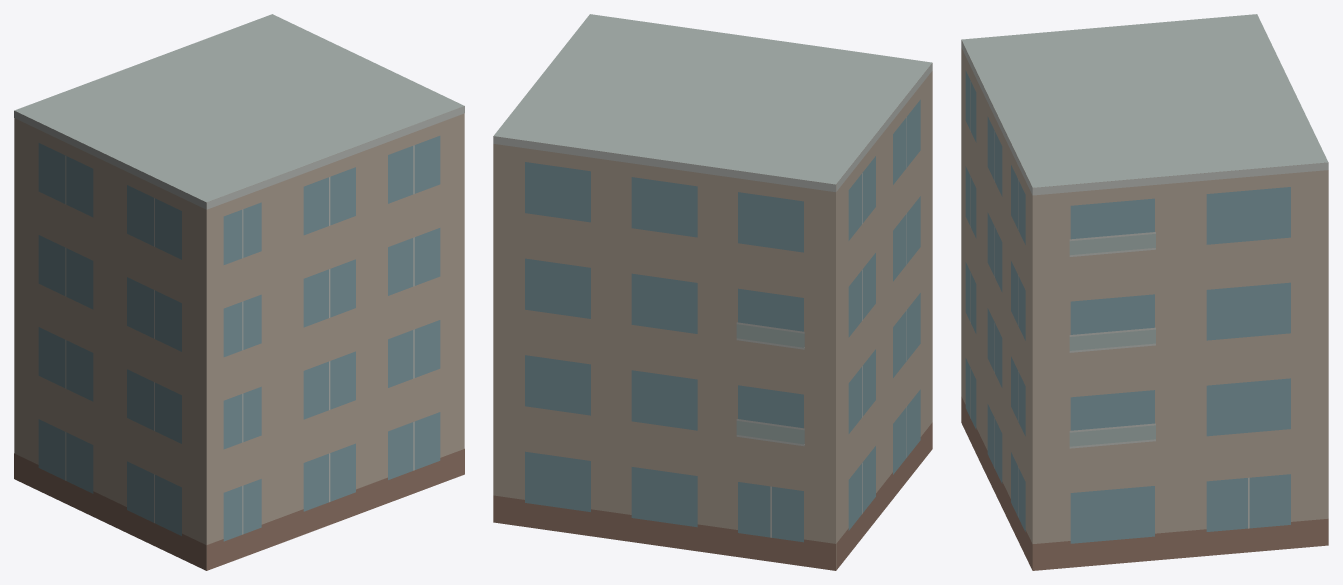
The model's file is residential-2f669c7a-1b70-49c1-ab4b-b73b47711ee6.glb.
3 views of the same model, side by side, from view 1: azimuth 30°, elevation 25°; view 2: azimuth 150°, elevation 25°; view 3: azimuth 270°, elevation 25° (orthographic). The views are drawn at different scales.
Visible parts, largest first — view 1: residential-2f669c7a-1b70-49c1-ab4b-b73b47711ee6.tmp; view 2: residential-2f669c7a-1b70-49c1-ab4b-b73b47711ee6.tmp; view 3: residential-2f669c7a-1b70-49c1-ab4b-b73b47711ee6.tmp.
Part boxes in pixels (left/top/right/bottom): residential-2f669c7a-1b70-49c1-ab4b-b73b47711ee6.tmp: left=14, top=14, right=464, bottom=570; residential-2f669c7a-1b70-49c1-ab4b-b73b47711ee6.tmp: left=493, top=14, right=932, bottom=570; residential-2f669c7a-1b70-49c1-ab4b-b73b47711ee6.tmp: left=961, top=14, right=1328, bottom=570.
Bounding box in the file's own units: 11.88 × 12.2 × 10.61.
